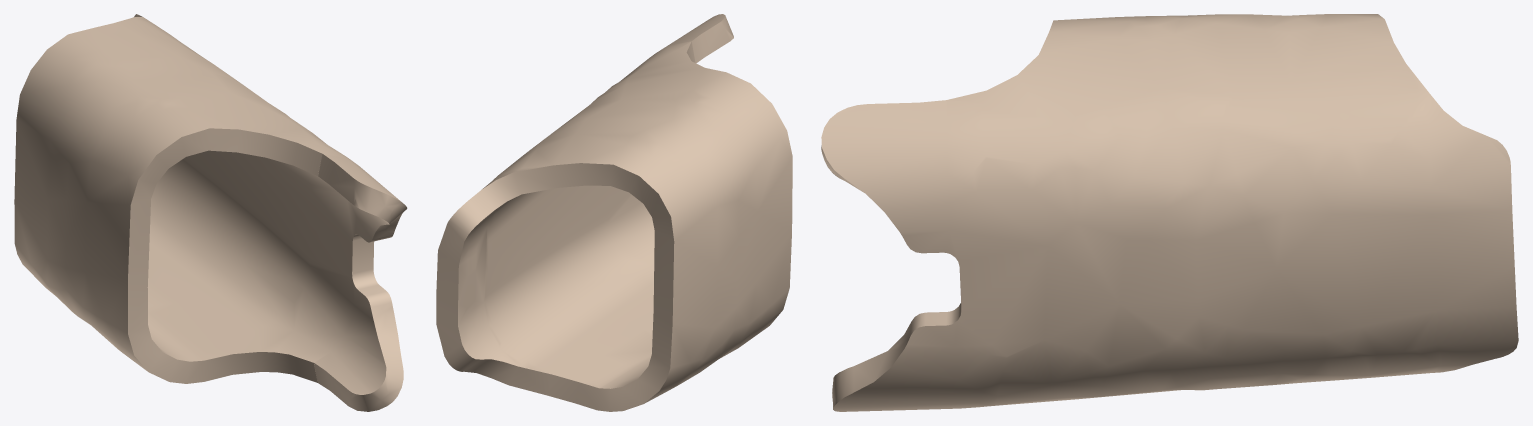
The model's file is l_hand_P_1.obj.
3 renders of one model, left to right at view 1: azimuth 30°, elevation 25°; view 2: azimuth 150°, elevation 25°; view 3: azimuth 270°, elevation 25°, orthographic. The views are drawn at different scales.
Bounding box in the file's own units: 19.67 × 23.54 × 43.38.
